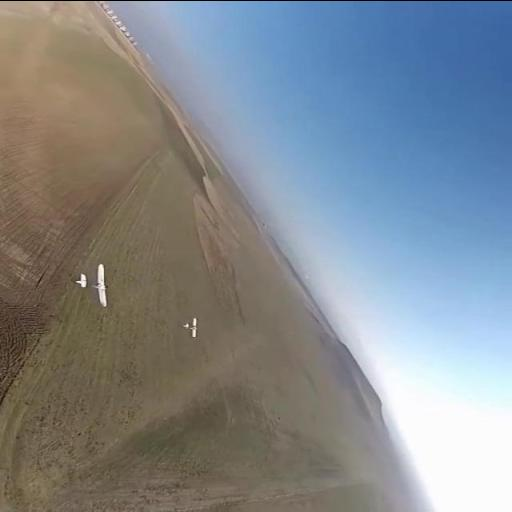uav: (76, 262, 109, 306), (184, 317, 200, 337)
